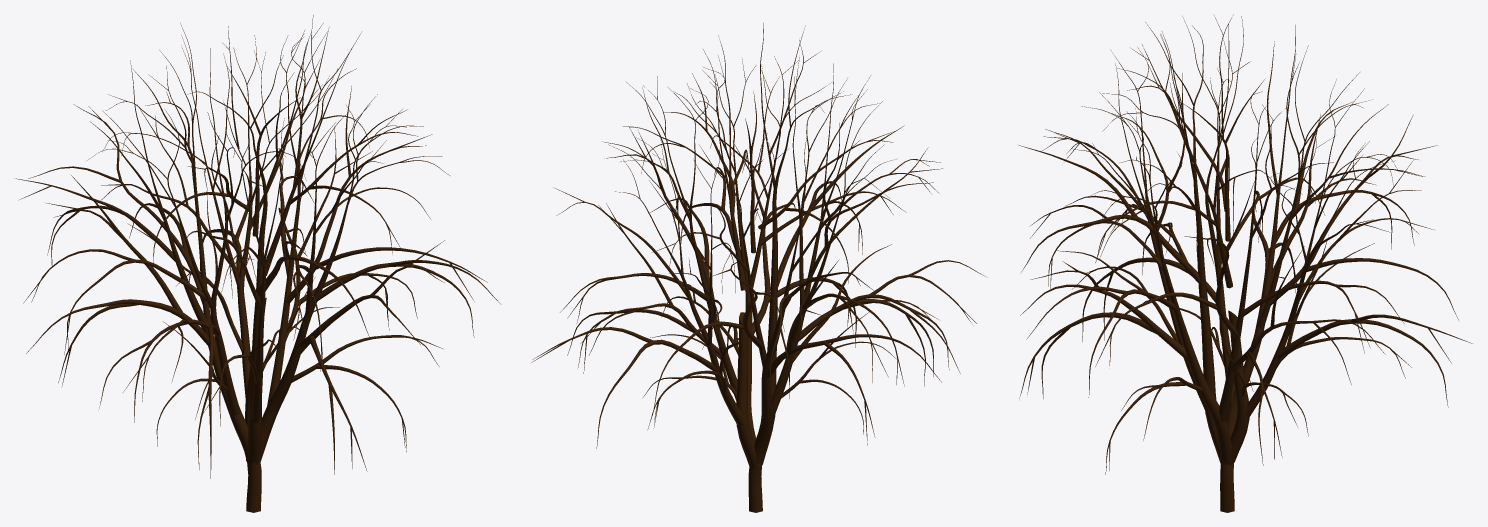
The model's file is TreeCellFracture.fbx.
The picture shows the model from 3 angles, left to right: view 1: azimuth 30°, elevation 25°; view 2: azimuth 150°, elevation 25°; view 3: azimuth 270°, elevation 25°; orthographic projection. The views are drawn at different scales.
Visible parts, largest first — view 1: Tree_cell.002, Tree_cell.117, Tree_cell.005, Tree_cell.031, Tree_cell.120, Tree_cell.119, Tree_cell.039, Tree_cell.032, Tree_cell.042, Tree_cell.030, Tree_cell.044, Tree_cell.151 (+3 smaller); view 2: Tree_cell.002, Tree_cell.005, Tree_cell.031, Tree_cell.117, Tree_cell.039, Tree_cell.046, Tree_cell.030, Tree_cell.032, Tree_cell.151, Tree_cell.120; view 3: Tree_cell.005, Tree_cell.002, Tree_cell.117, Tree_cell.031, Tree_cell.119, Tree_cell.032, Tree_cell.042, Tree_cell.120, Tree_cell.030, Tree_cell.198, Tree_cell.127, Tree_cell.151 (+2 smaller).
Boxes of the visible parts, box(x1,y1,x2,y2) form: Tree_cell.002: box(130, 60, 261, 512); Tree_cell.117: box(254, 273, 328, 463); Tree_cell.005: box(245, 297, 266, 465); Tree_cell.031: box(238, 157, 252, 398); Tree_cell.120: box(250, 225, 265, 422); Tree_cell.119: box(267, 280, 292, 408); Tree_cell.039: box(26, 299, 209, 353); Tree_cell.032: box(192, 106, 211, 324); Tree_cell.042: box(73, 104, 203, 306); Tree_cell.030: box(210, 149, 227, 343); Tree_cell.044: box(64, 259, 208, 354); Tree_cell.151: box(280, 29, 305, 281); Tree_cell.002: box(748, 133, 807, 512); Tree_cell.005: box(736, 304, 777, 467); Tree_cell.031: box(666, 247, 744, 425); Tree_cell.117: box(740, 249, 755, 465); Tree_cell.039: box(767, 334, 941, 382); Tree_cell.046: box(808, 182, 933, 277); Tree_cell.030: box(792, 167, 804, 347); Tree_cell.032: box(731, 188, 766, 367); Tree_cell.151: box(668, 87, 709, 305); Tree_cell.120: box(775, 185, 834, 412); Tree_cell.005: box(1199, 294, 1249, 465); Tree_cell.002: box(1220, 25, 1295, 512); Tree_cell.117: box(1167, 286, 1234, 465); Tree_cell.031: box(1244, 230, 1325, 419); Tree_cell.119: box(1219, 317, 1242, 422); Tree_cell.032: box(1257, 131, 1310, 329); Tree_cell.042: box(1268, 115, 1437, 305); Tree_cell.120: box(1144, 168, 1206, 409); Tree_cell.030: box(1205, 126, 1226, 315); Tree_cell.198: box(1314, 319, 1448, 407); Tree_cell.127: box(1121, 299, 1190, 361); Tree_cell.151: box(1238, 102, 1269, 320).
Bounding box in the file's own units: 1156 × 1387 × 1169.
